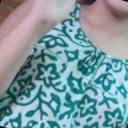hand: (34, 0, 76, 25)
